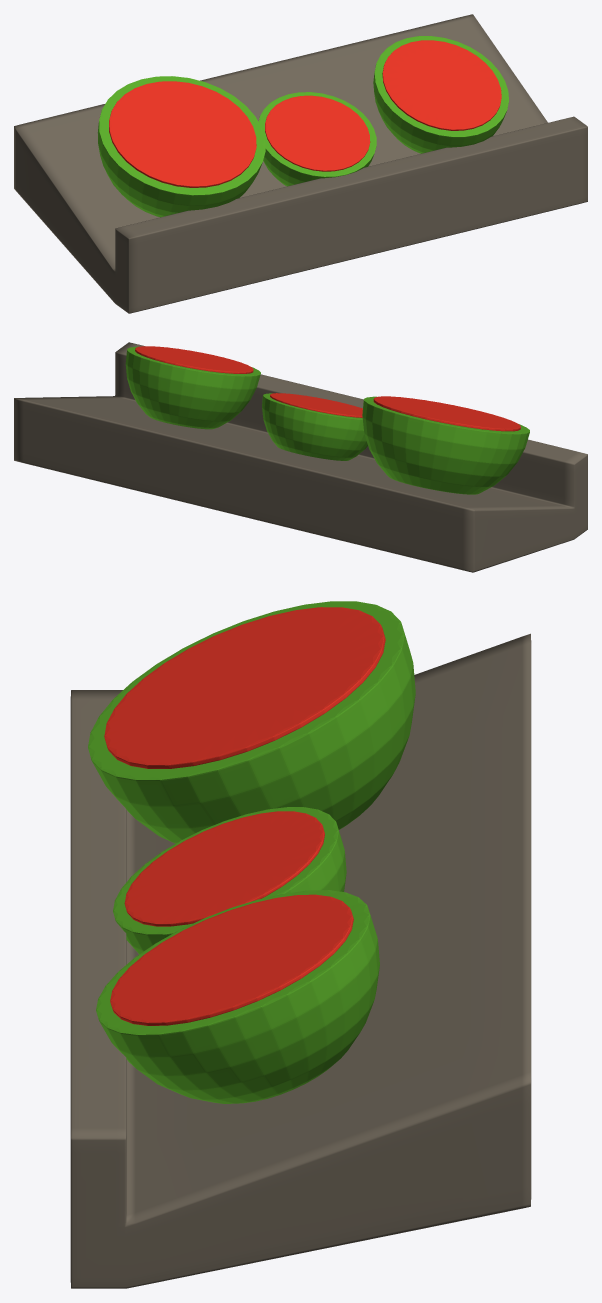
File: fruits2.fbx
The picture shows the model from 3 angles, top to bottom: view 1: azimuth 30°, elevation 25°; view 2: azimuth 150°, elevation 25°; view 3: azimuth 270°, elevation 25°; orthographic projection. The views are drawn at different scales.
Parts seen in each view (by area): view 1: fruits2; view 2: fruits2; view 3: fruits2.
Boxes of the visible parts, bbox=[...] form: fruits2: bbox=[14, 14, 587, 313]; fruits2: bbox=[14, 342, 587, 572]; fruits2: bbox=[70, 601, 531, 1288].
Size of the model in its own units: 624 by 195 by 271.
